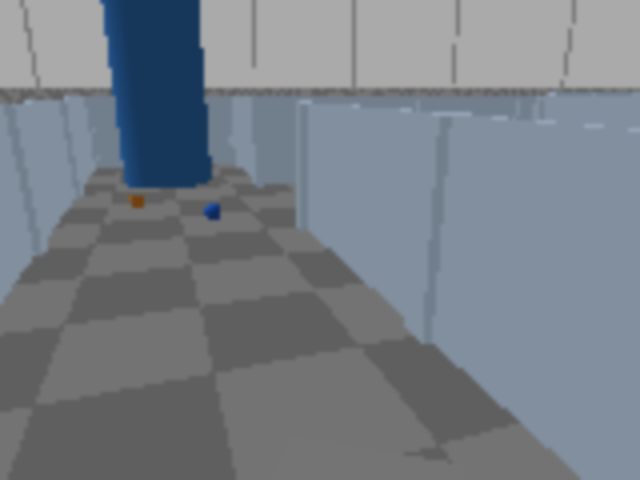obstacle: (264, 435, 468, 478)
puck: (201, 201, 226, 223)
